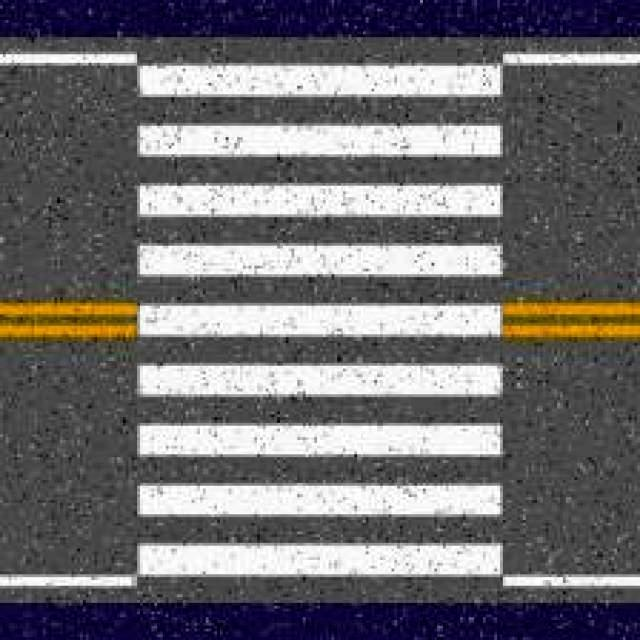crosswalk: (136, 47, 509, 587)
